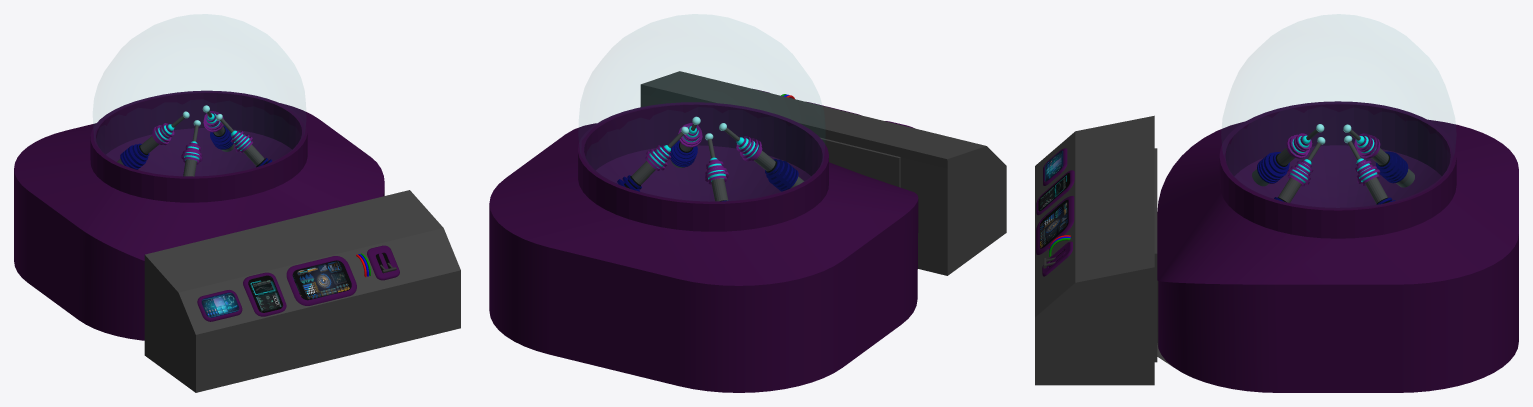
The model's file is reactor.fbx.
The picture shows the model from 3 angles, left to right: view 1: azimuth 30°, elevation 25°; view 2: azimuth 150°, elevation 25°; view 3: azimuth 270°, elevation 25°; orthographic projection. The views are drawn at different scales.
Parts seen in each view (by area): view 1: pCube1, pCube3, pCube4, pSphere9, pCube2, pSphere8, pCube6, pSphere7, pSphere6; view 2: pCube1, pSphere6, pSphere8, pSphere7, pSphere9; view 3: pCube1, pSphere9, pSphere6, pCube3, pSphere8, pSphere7, pCube4, pCube2.
Boxes of the visible parts, x1,y1,x2,y2 form: pCube1: [14, 90, 460, 392]; pCube3: [286, 256, 356, 305]; pCube4: [243, 272, 286, 316]; pSphere9: [117, 111, 189, 169]; pCube2: [197, 290, 242, 321]; pSphere8: [202, 105, 234, 151]; pCube6: [367, 245, 399, 280]; pSphere7: [216, 114, 272, 167]; pSphere6: [181, 120, 202, 176]; pCube1: [489, 71, 1006, 392]; pSphere6: [719, 123, 804, 191]; pSphere8: [616, 126, 688, 191]; pSphere7: [669, 116, 702, 167]; pSphere9: [704, 133, 729, 201]; pCube1: [1035, 101, 1518, 392]; pSphere9: [1343, 124, 1414, 187]; pSphere6: [1252, 124, 1324, 186]; pCube3: [1036, 196, 1074, 254]; pSphere8: [1344, 135, 1395, 204]; pSphere7: [1274, 137, 1325, 202]; pCube4: [1036, 170, 1074, 215]; pCube2: [1043, 148, 1067, 185].
Bounding box in the file's own units: 3.3 × 2.61 × 4.05.
17 materials, 3 textured.
